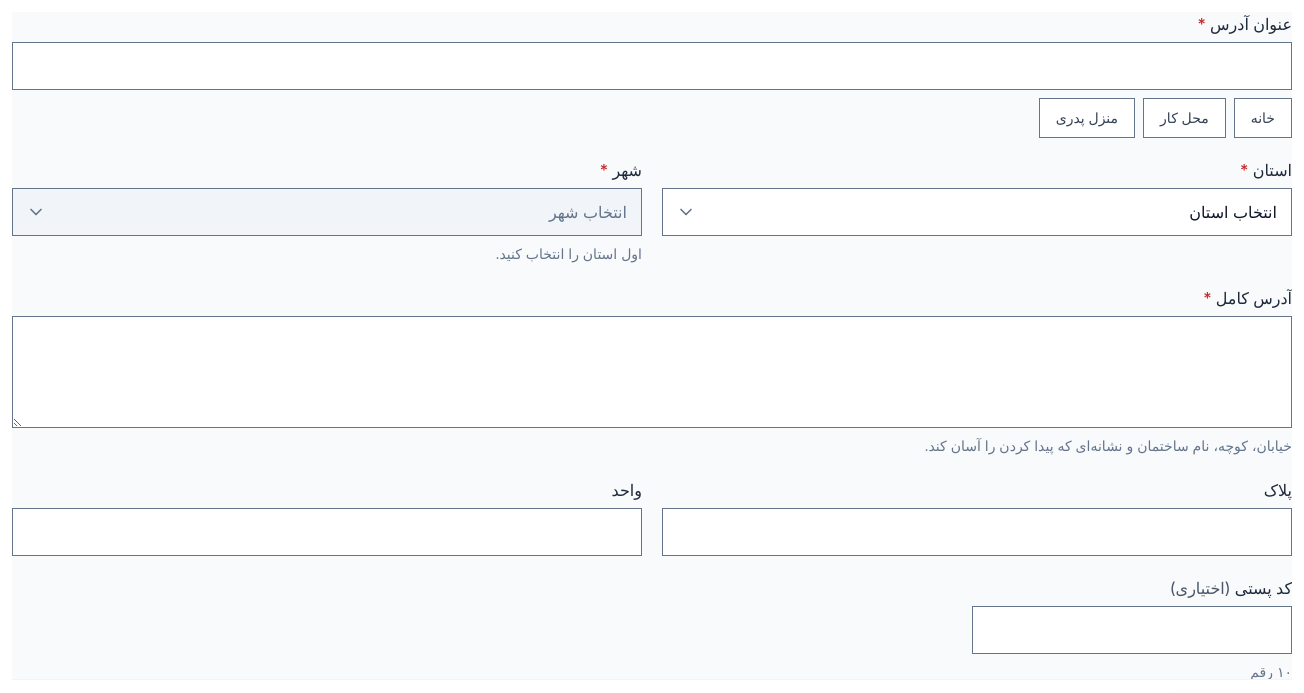
Test: AddressForm: a new address › normalises «۰۹۱۲۱۲۳۴۵۶۷» and the postal code to Latin digits; plaque and unit stay as typed
Later steps or results of the test are not shown.
Type "منزل پدری" into the field labelled "عنوان آدرس *" at (652, 66), box [13, 43, 1291, 89]
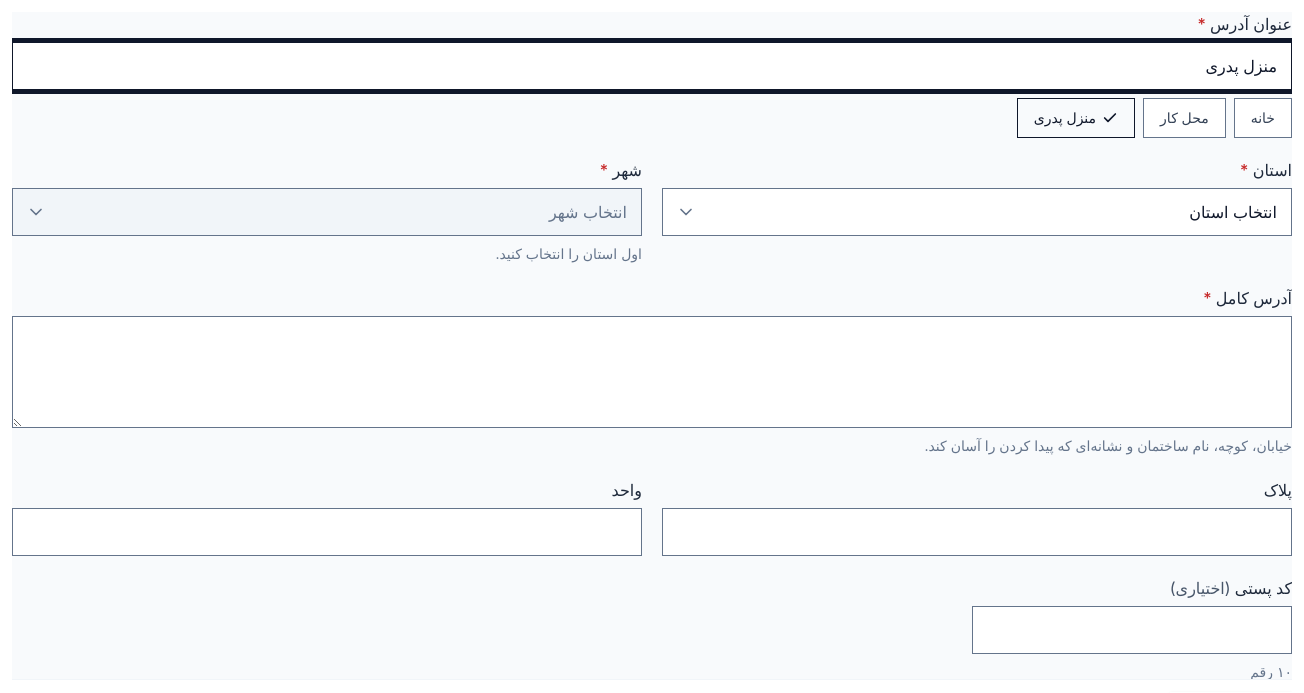
Select "تهران" in the dropdown labelled "استان *" at (977, 212), box [662, 188, 1292, 236]
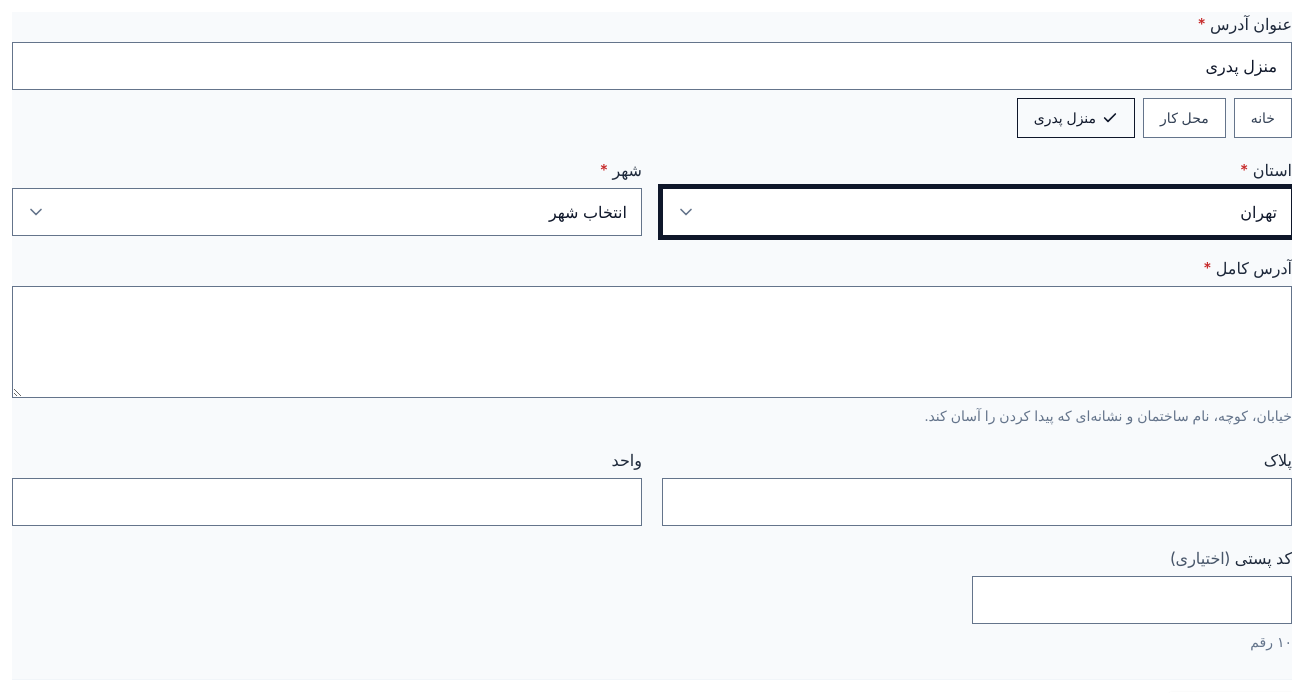
Result: the dropdown labelled "شهر *" is enabled at [12, 188, 642, 236]
